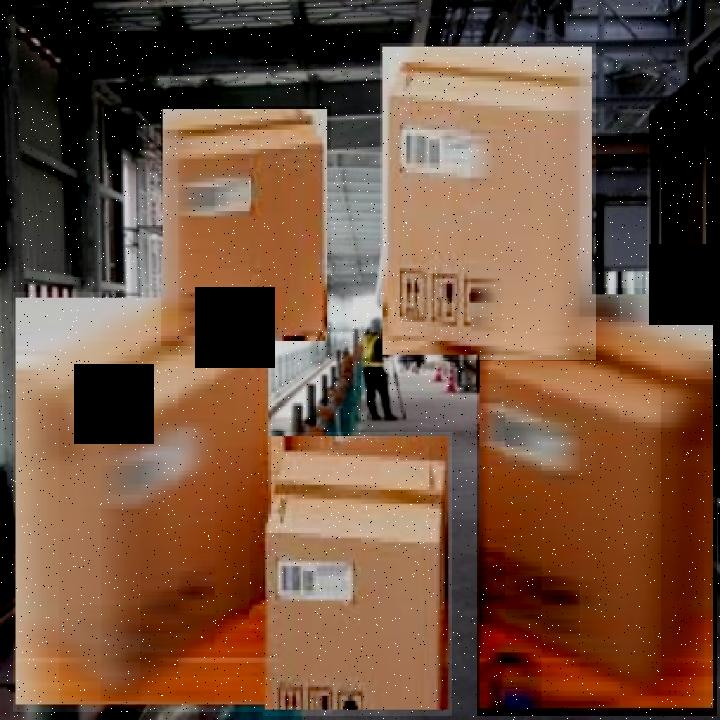box: (13, 292, 273, 712), (477, 288, 717, 716), (380, 43, 596, 360), (263, 432, 452, 716), (161, 106, 331, 346)
